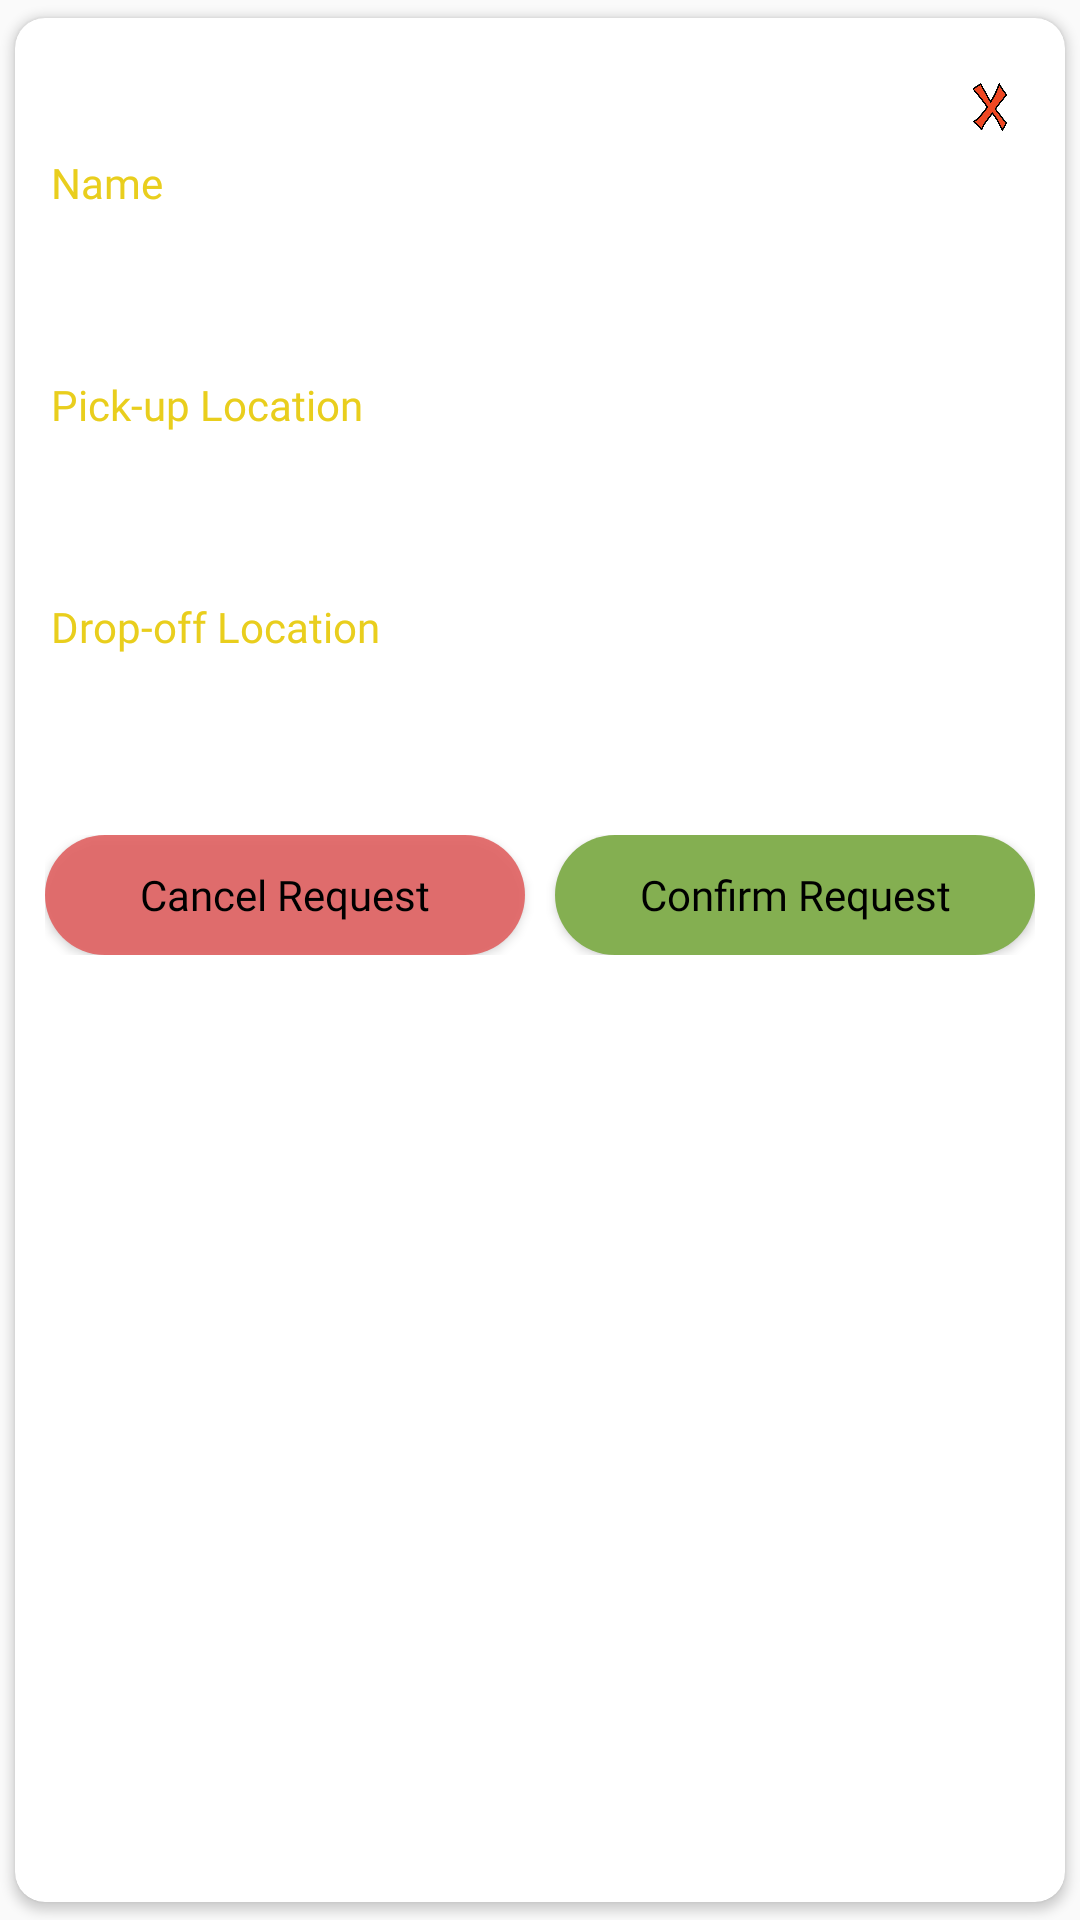

Screen size 1080px×1920px. Icon name, then its center in pixels as (x=x, y=y):
false: (x=990, y=107)
